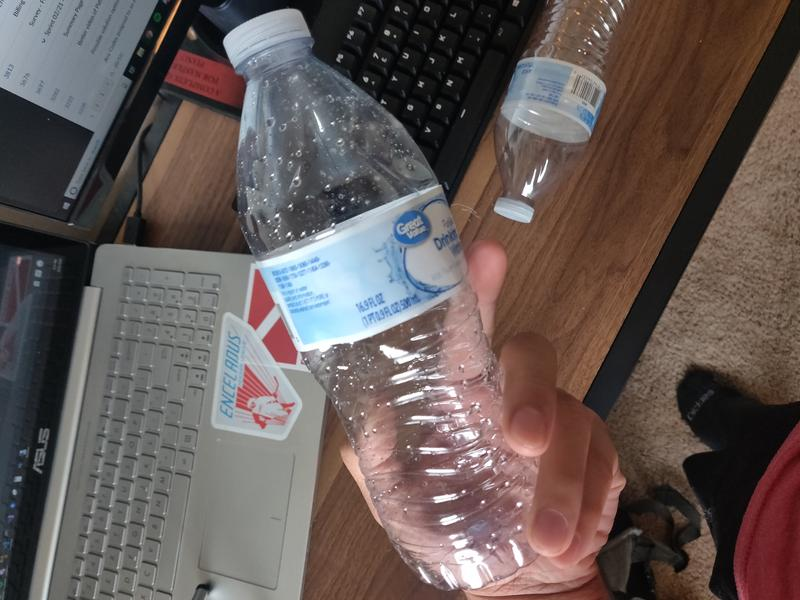bottle: (222, 9, 549, 590), (493, 1, 633, 224)
